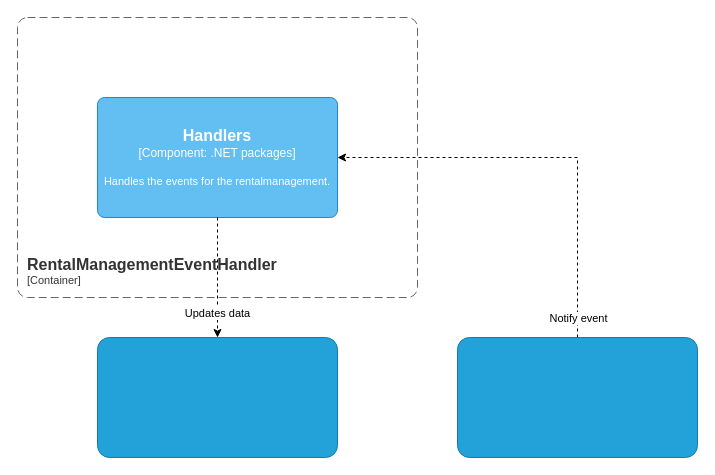
Some shapes in this 715 by 475 pixel diagram are drawn without their labels. The centre of each missing label's shape, as x and y in pixels:
"RabbitMQ [Container: RabbitMQ] Sends events to the correct exchanges and queues." goes at [577,397].
"RentalManagement [Container: SQL Server 2019] Stores the data of the rentals." goes at [217,397].
